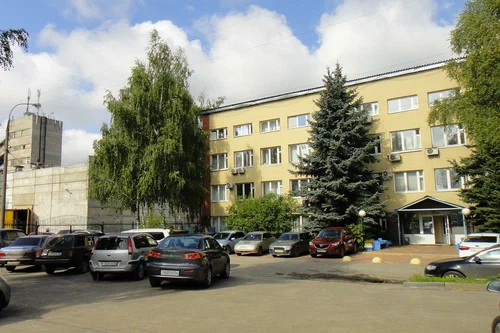Car: (147, 235, 231, 287), (89, 233, 158, 281), (35, 232, 102, 274), (424, 245, 500, 279), (0, 235, 51, 272), (309, 227, 357, 258), (269, 232, 311, 257), (457, 233, 500, 257), (234, 231, 275, 256), (121, 228, 171, 244), (213, 230, 245, 253), (487, 281, 500, 333), (0, 229, 25, 248), (0, 274, 11, 311), (57, 229, 102, 234), (27, 231, 56, 236)
